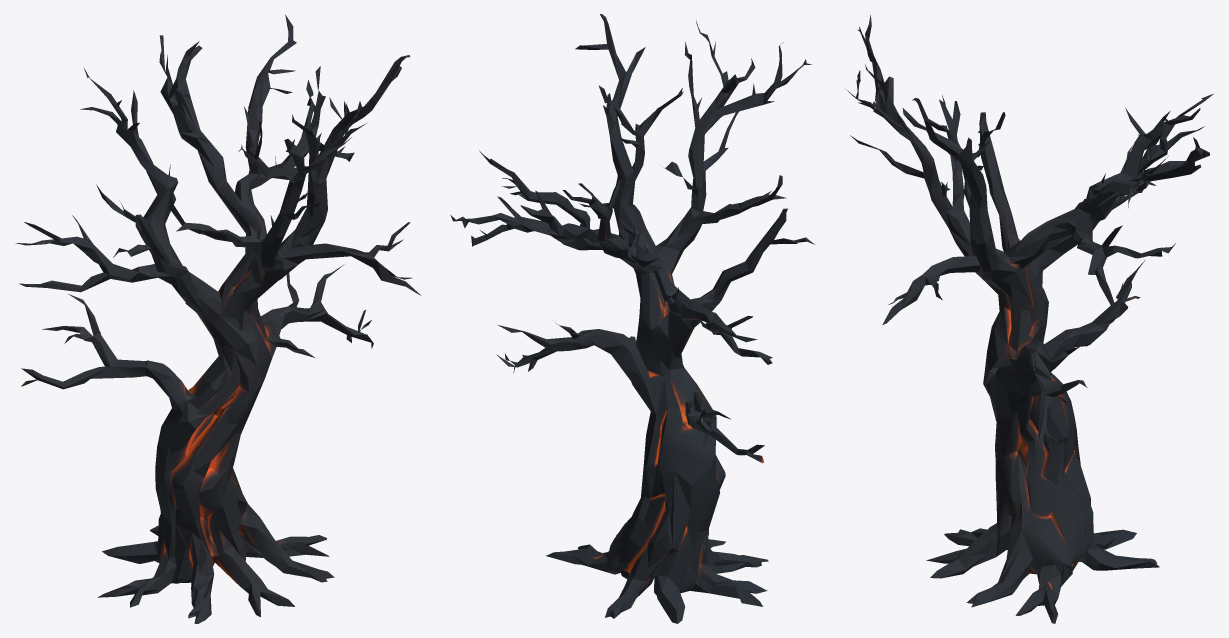
File: charred_tree.glb
3 renders of one model, left to right at view 1: azimuth 30°, elevation 25°; view 2: azimuth 150°, elevation 25°; view 3: azimuth 270°, elevation 25°, orthographic. The views are drawn at different scales.
Bounding box in the file's own units: 1.24 × 1.9 × 1.2.
1 material, 1 textured.
